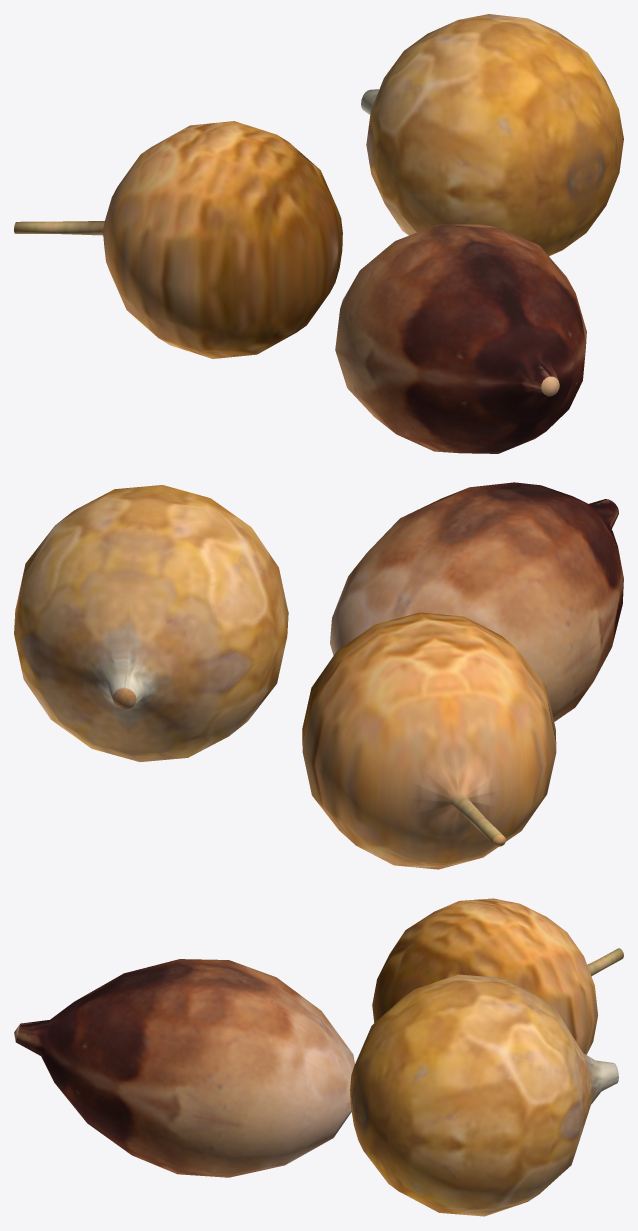
Rendered from gualou.FBX.
3 views of the same model, one above another, from view 1: azimuth 30°, elevation 25°; view 2: azimuth 150°, elevation 25°; view 3: azimuth 270°, elevation 25° (orthographic). The views are drawn at different scales.
Visible parts, largest first — view 1: Sphere002, Sphere003, Sphere001; view 2: Sphere002, Sphere001, Sphere003; view 3: Sphere003, Sphere002, Sphere001.
Boxes of the visible parts, bbox=[...] form: Sphere002: bbox=[361, 14, 623, 256]; Sphere003: bbox=[335, 224, 586, 453]; Sphere001: bbox=[14, 121, 342, 358]; Sphere002: bbox=[14, 485, 288, 762]; Sphere001: bbox=[302, 612, 556, 869]; Sphere003: bbox=[330, 482, 623, 721]; Sphere003: bbox=[14, 959, 354, 1177]; Sphere002: bbox=[350, 974, 618, 1216]; Sphere001: bbox=[372, 898, 623, 1054].
Bounding box in the file's own units: 54.47 × 27.52 × 58.98.
Materials: 1 (1 with a texture image).
